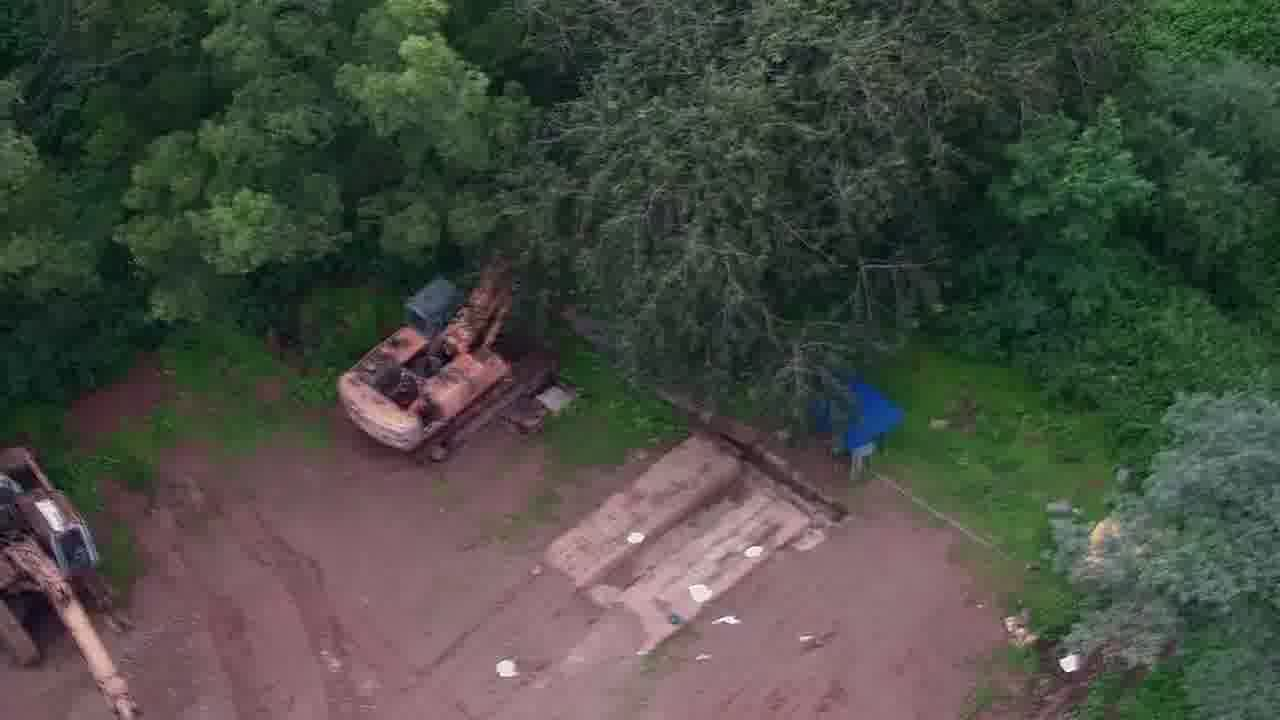HMV: (334, 260, 531, 458)
